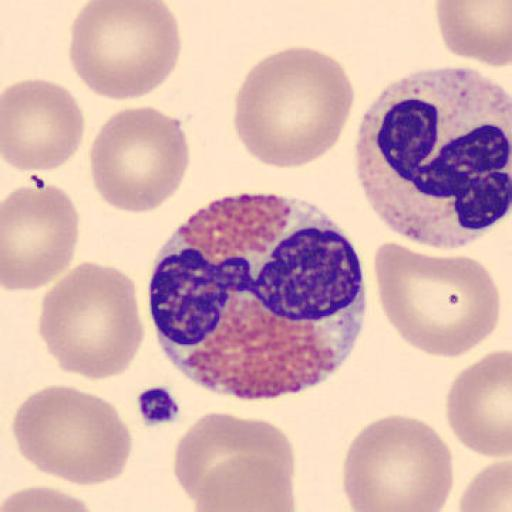Platelet: (133, 383, 184, 428)
RBC: (232, 44, 355, 172), (373, 239, 502, 359), (36, 260, 144, 382), (11, 384, 133, 486), (173, 410, 296, 510), (88, 104, 192, 216), (68, 1, 182, 102), (341, 412, 455, 512), (1, 183, 80, 292), (2, 77, 86, 173), (173, 410, 255, 506), (445, 348, 512, 459), (192, 454, 297, 512), (435, 0, 512, 68), (458, 458, 512, 512), (1, 484, 99, 512)
WBC: (144, 191, 368, 400), (351, 65, 512, 252)
